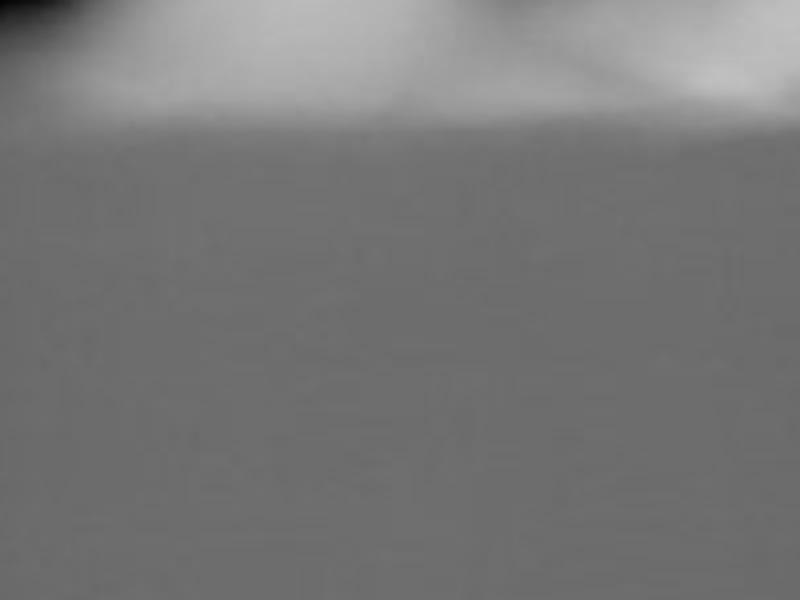defect: (1, 1, 74, 20)
